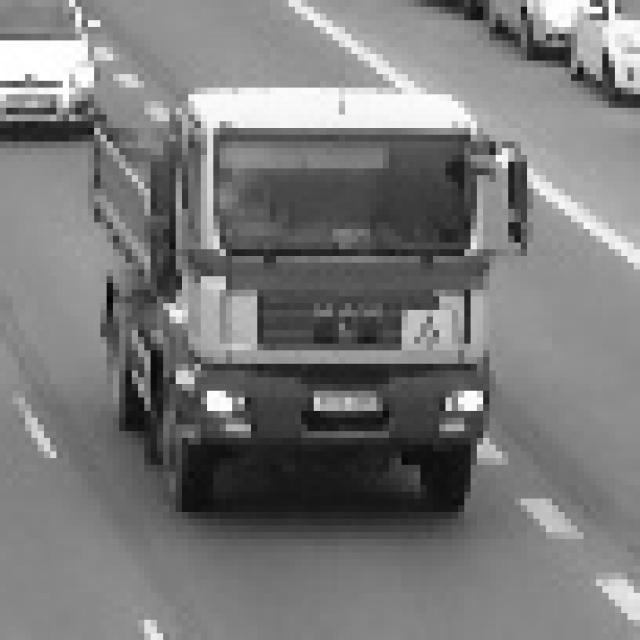truck: (138, 58, 544, 496)
